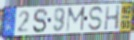2: (16, 10, 31, 34)
9: (52, 6, 65, 33)
H: (103, 4, 122, 31)
M: (65, 6, 87, 33)
S: (32, 8, 49, 35), (88, 6, 105, 33)
